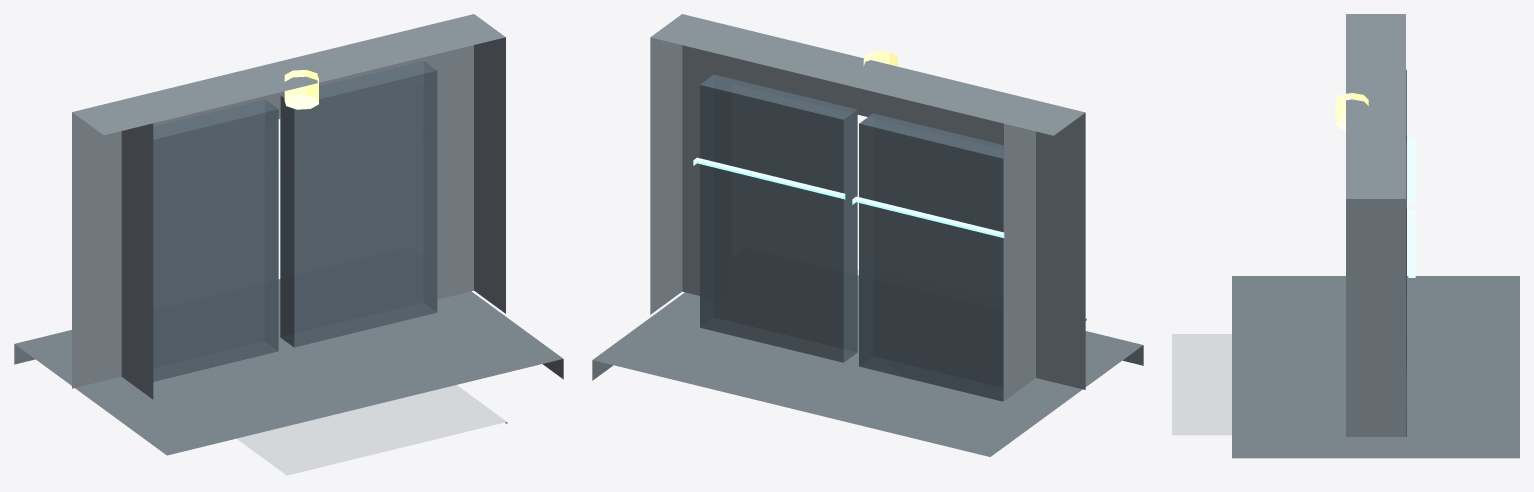
File: dome_entrance.glb
3 renders of one model, left to right at view 1: azimuth 30°, elevation 25°; view 2: azimuth 150°, elevation 25°; view 3: azimuth 270°, elevation 25°, orthographic. The views are drawn at different scales.
Parts seen in each view (by area): view 1: VH_DomeEntrance; view 2: VH_DomeEntrance; view 3: VH_DomeEntrance.
Boxes of the visible parts, x1=… form: VH_DomeEntrance: x1=14, y1=14, x2=563, y2=475; VH_DomeEntrance: x1=592, y1=14, x2=1143, y2=456; VH_DomeEntrance: x1=1172, y1=14, x2=1519, y2=458.
Bounding box in the file's own units: 3.65 × 2.64 × 2.9.
